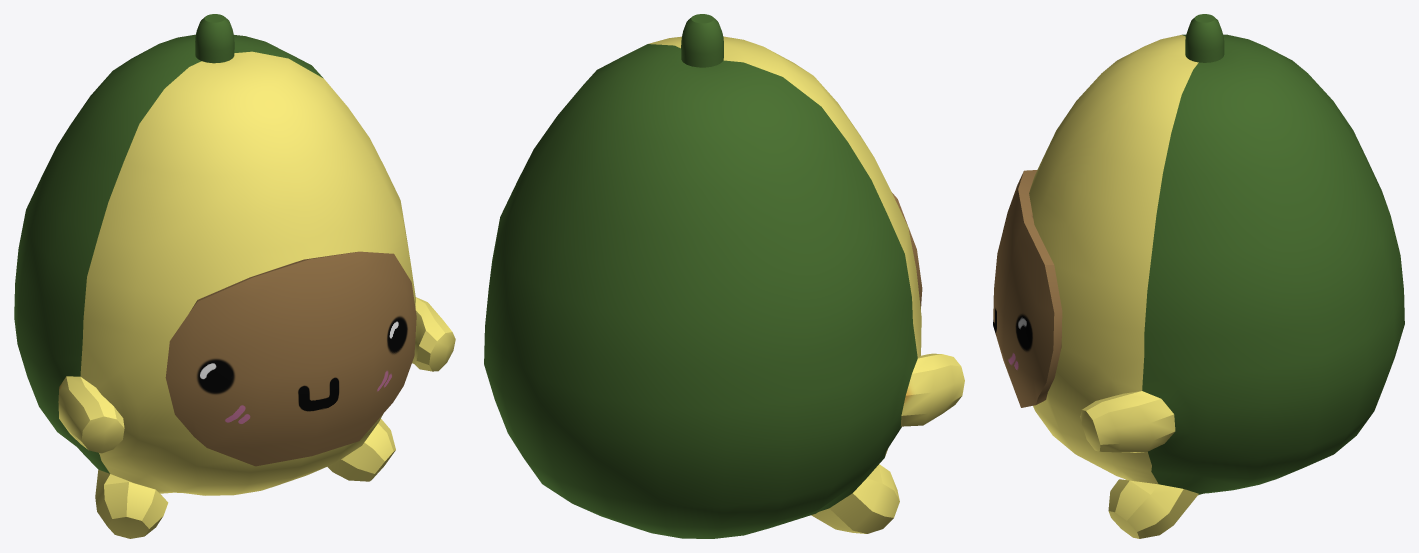
File: Phresh.fbx
The picture shows the model from 3 angles, left to right: view 1: azimuth 30°, elevation 25°; view 2: azimuth 150°, elevation 25°; view 3: azimuth 270°, elevation 25°; orthographic projection. The views are drawn at different scales.
Visible parts, largest first — view 1: Phresh; view 2: Phresh; view 3: Phresh.
Boxes of the visible parts, bbox=[...] form: Phresh: bbox=[14, 14, 455, 538]; Phresh: bbox=[484, 14, 964, 538]; Phresh: bbox=[993, 14, 1404, 538].
Bounding box in the file's own units: 252 × 300 × 243.
Materials: 1 (1 with a texture image).
